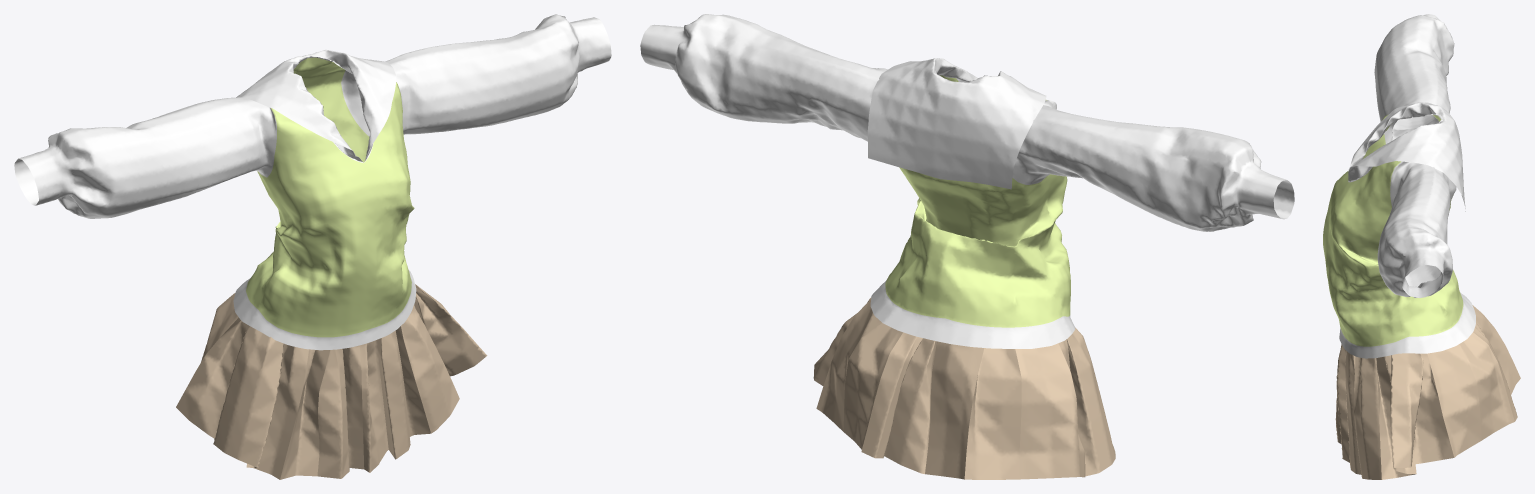
File: natsu_swimsuit_from_mb_remeshed2.fbx
The picture shows the model from 3 angles, left to right: view 1: azimuth 30°, elevation 25°; view 2: azimuth 150°, elevation 25°; view 3: azimuth 270°, elevation 25°; orthographic projection. The views are drawn at different scales.
Parts seen in each view (by area): view 1: natsu_swimsuit_from_mb_remeshed2; view 2: natsu_swimsuit_from_mb_remeshed2; view 3: natsu_swimsuit_from_mb_remeshed2.
Part boxes in pixels (x1=…): natsu_swimsuit_from_mb_remeshed2: x1=14, y1=14, x2=611, y2=479; natsu_swimsuit_from_mb_remeshed2: x1=640, y1=14, x2=1294, y2=479; natsu_swimsuit_from_mb_remeshed2: x1=1323, y1=14, x2=1520, y2=479.
Size of the model in its own units: 903 by 572 by 300.
